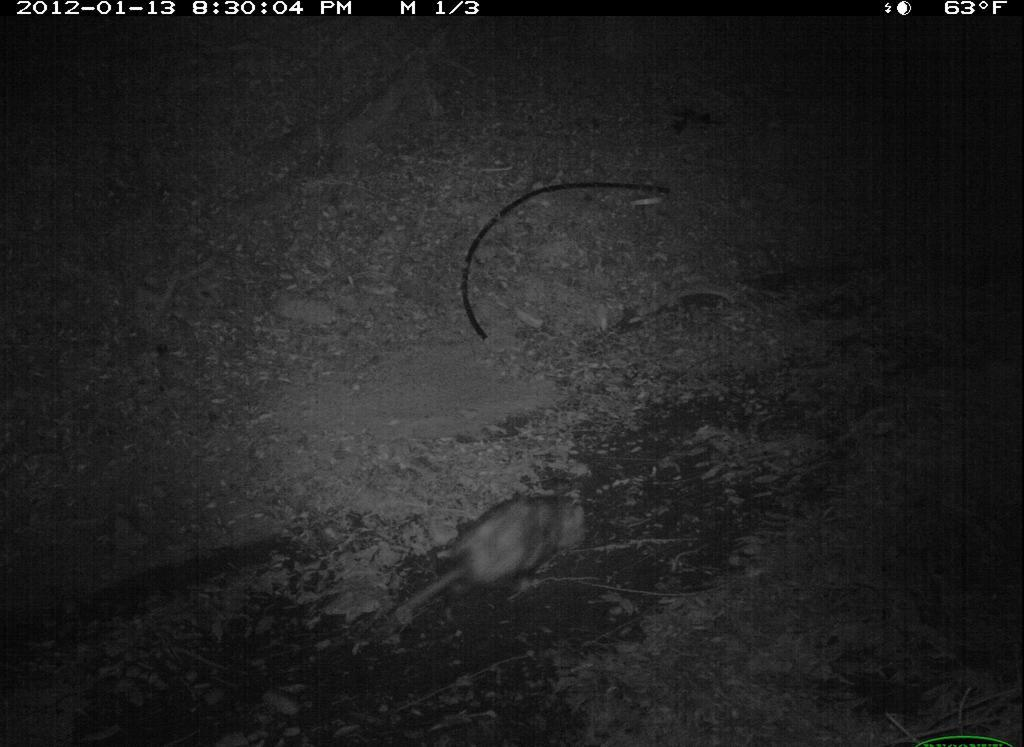opossum: (391, 482, 594, 646)
